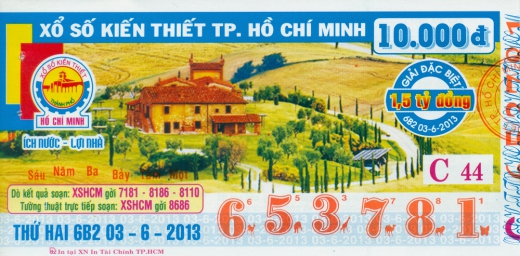serial_zone: (207, 193, 501, 245)
